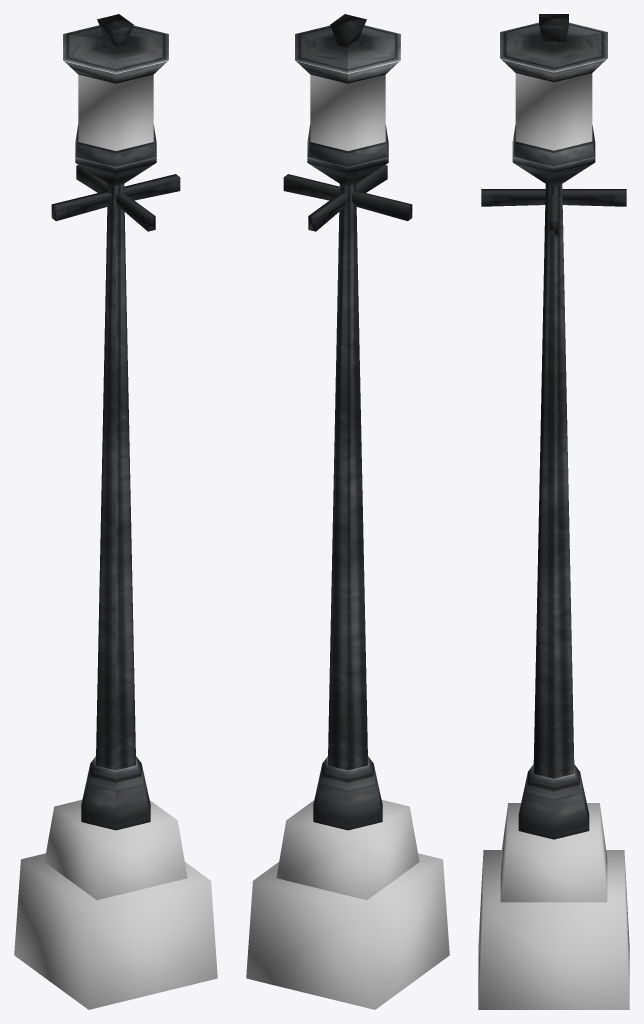
File: StreetLightTall_1.fbx
3 renders of one model, left to right at view 1: azimuth 30°, elevation 25°; view 2: azimuth 150°, elevation 25°; view 3: azimuth 270°, elevation 25°, orthographic.
Visible parts, largest first — view 1: Mesh; view 2: Mesh; view 3: Mesh.
Boxes of the visible parts, x1,y1,x2,y2 form: Mesh: (14,14,217,1009); Mesh: (246,14,449,1009); Mesh: (478,14,629,1009).
Size of the model in its own units: 73.4 by 513 by 73.46.
